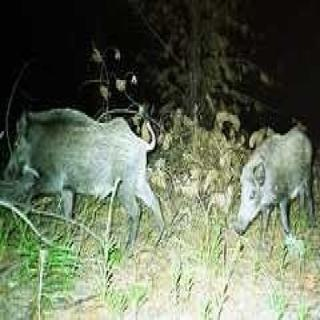Pig: (2, 76, 168, 270), (221, 116, 317, 244)
